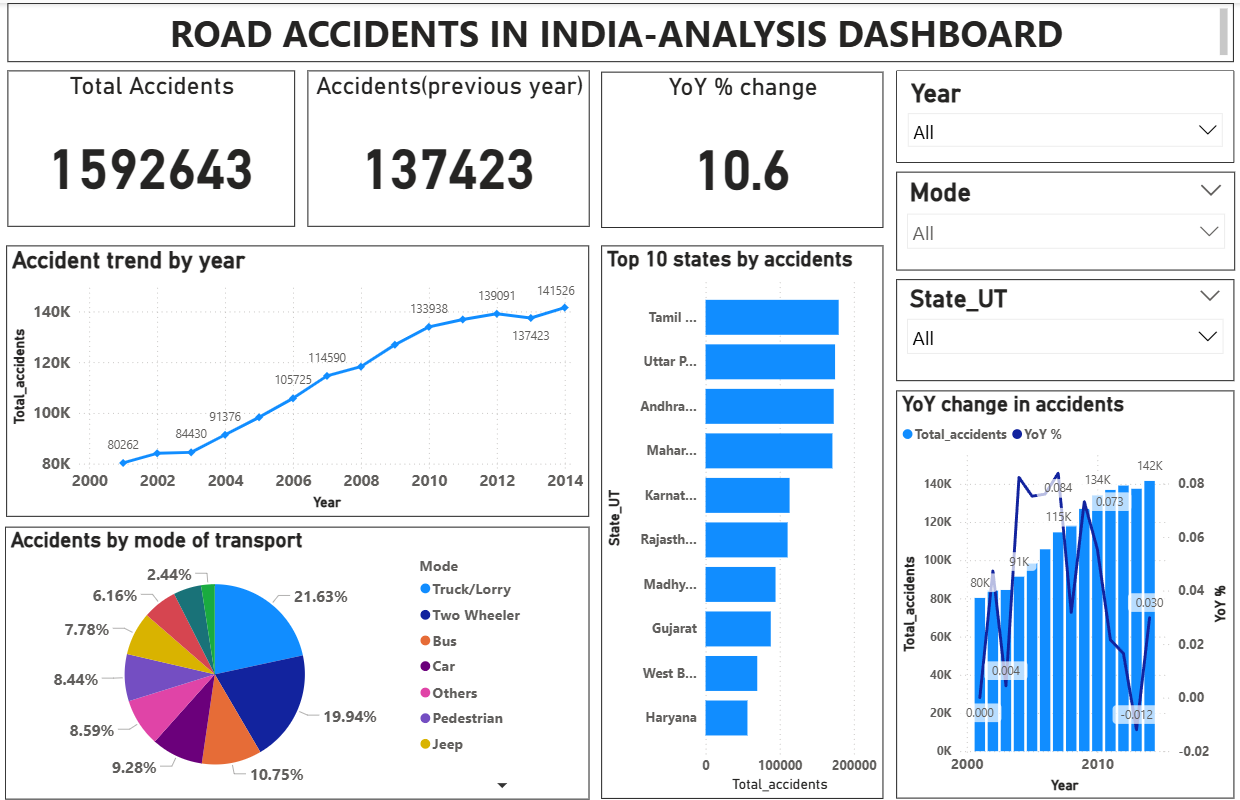

What the dashboard file says about the page in this screenshot:
{"tool":"powerbi","page":{"name":"Page 1","canvas":[1295,822],"ordinal":0},"visuals":[{"type":"slicer","fields":{"Values":["acc_mode_data.Year"]},"box":[932.6,69.8,347.6,94.9],"z":0},{"type":"slicer","fields":{"Values":["acc_mode_data.Mode"]},"box":[932.6,173.1,349,101.9],"z":1000},{"type":"slicer","fields":{"Values":["acc_mode_data.State_UT"]},"box":[932.6,284.8,347.6,104.7],"z":2000},{"type":"card","title":"Total Accidents","fields":{"Values":["acc_mode_data.Total_accidents"]},"box":[18.1,69.8,296,160.5],"z":3000},{"type":"card","title":"Accidents(previous year)","fields":{"Values":["acc_mode_data.Accidents_previous_year"]},"box":[326.7,69.8,290.4,160.5],"z":4000},{"type":"card","title":"YoY % change","fields":{"Values":["acc_mode_data.YoY %"]},"box":[629.6,71.2,290.4,160.5],"z":5000},{"type":"lineChart","title":"Accident trend by year","fields":{"Category":["acc_mode_data.Year"],"Y":["acc_mode_data.Total_accidents"]},"box":[16.8,249.9,600.3,279.2],"z":6000},{"type":"clusteredBarChart","title":"Top 10 states by accidents","fields":{"Category":["acc_mode_data.State_UT"],"Y":["acc_mode_data.Total_accidents"]},"box":[629.6,249.9,290.4,569.6],"z":7000},{"type":"pieChart","title":"Accidents by mode of transport","fields":{"Category":["acc_mode_data.Mode"],"Y":["acc_mode_data.Total_accidents"]},"box":[15.4,538.9,601.7,280.6],"z":8000},{"type":"lineClusteredColumnComboChart","title":"YoY change in accidents","fields":{"Category":["acc_mode_data.Year"],"Y":["acc_mode_data.Total_accidents"],"Y2":["acc_mode_data.YoY %"]},"box":[932.6,399.3,347.6,420.2],"z":9000},{"type":"textbox","box":[18.1,0,1261.5,60.3],"z":10000}]}

Visuals, with their boxes in screenshot pixels (x1, y1, x2, y2), scaled from the page's 1295x822 canvas onto the 1240x800 screenshot:
slicer - acc_mode_data.Year: locate(893, 68, 1226, 160)
slicer - acc_mode_data.Mode: locate(893, 168, 1227, 268)
slicer - acc_mode_data.State_UT: locate(893, 277, 1226, 379)
"Total Accidents" card: locate(17, 68, 301, 224)
"Accidents(previous year)" card: locate(313, 68, 591, 224)
"YoY % change" card: locate(603, 69, 881, 225)
"Accident trend by year" lineChart: locate(16, 243, 591, 515)
"Top 10 states by accidents" clusteredBarChart: locate(603, 243, 881, 798)
"Accidents by mode of transport" pieChart: locate(15, 524, 591, 798)
"YoY change in accidents" lineClusteredColumnComboChart: locate(893, 389, 1226, 798)
textbox: locate(17, 0, 1225, 59)
